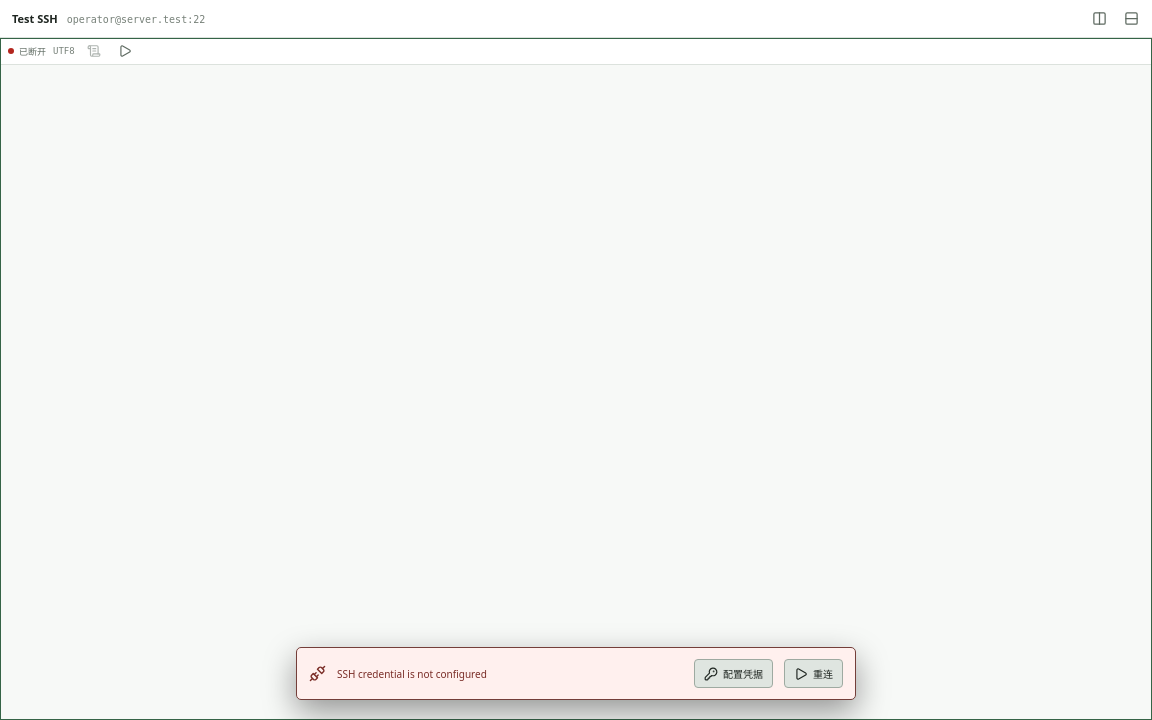
Test: M2 terminal workspace › uses the themed credential dialog and persists private-key passphrases
Click the button "配置凭据" at (734, 674), box x1=694 y1=659 x2=773 y2=688
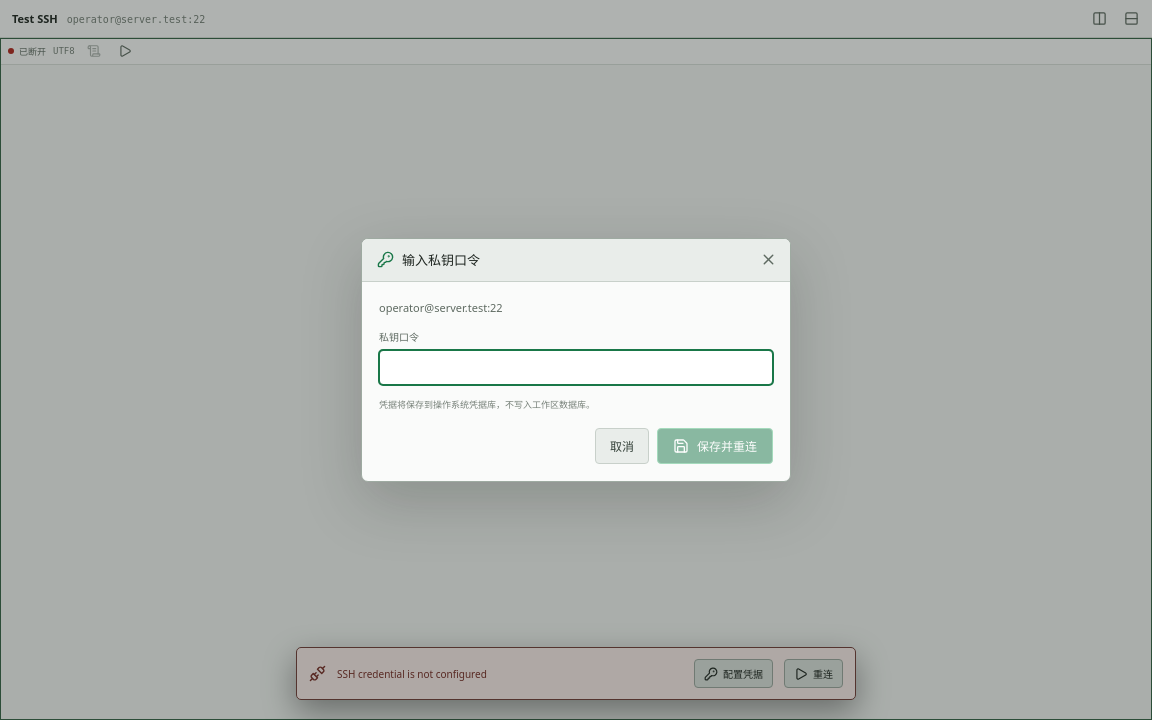
Result: the dialog "输入私钥口令" is shown at x1=361 y1=238 x2=791 y2=482
Type "passphrase-value" into the password field labelled "私钥口令" at (576, 368), box x1=379 y1=350 x2=773 y2=385
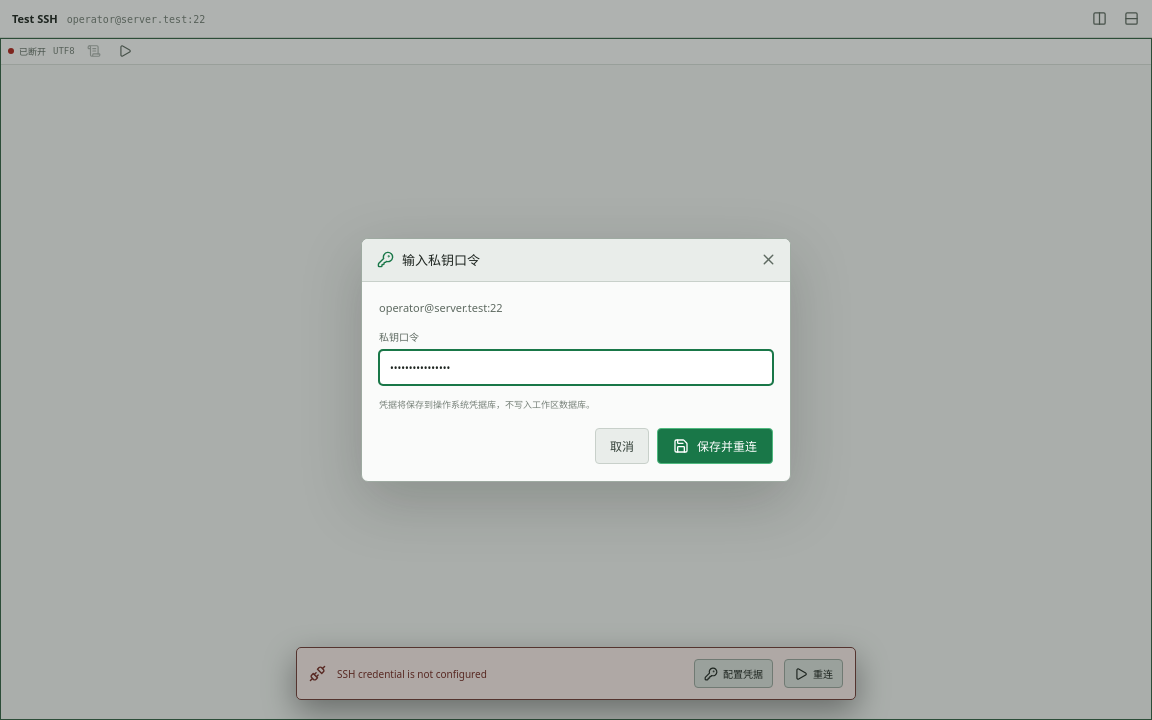
Click the button "保存并重连" at (715, 446), box x1=657 y1=428 x2=773 y2=464
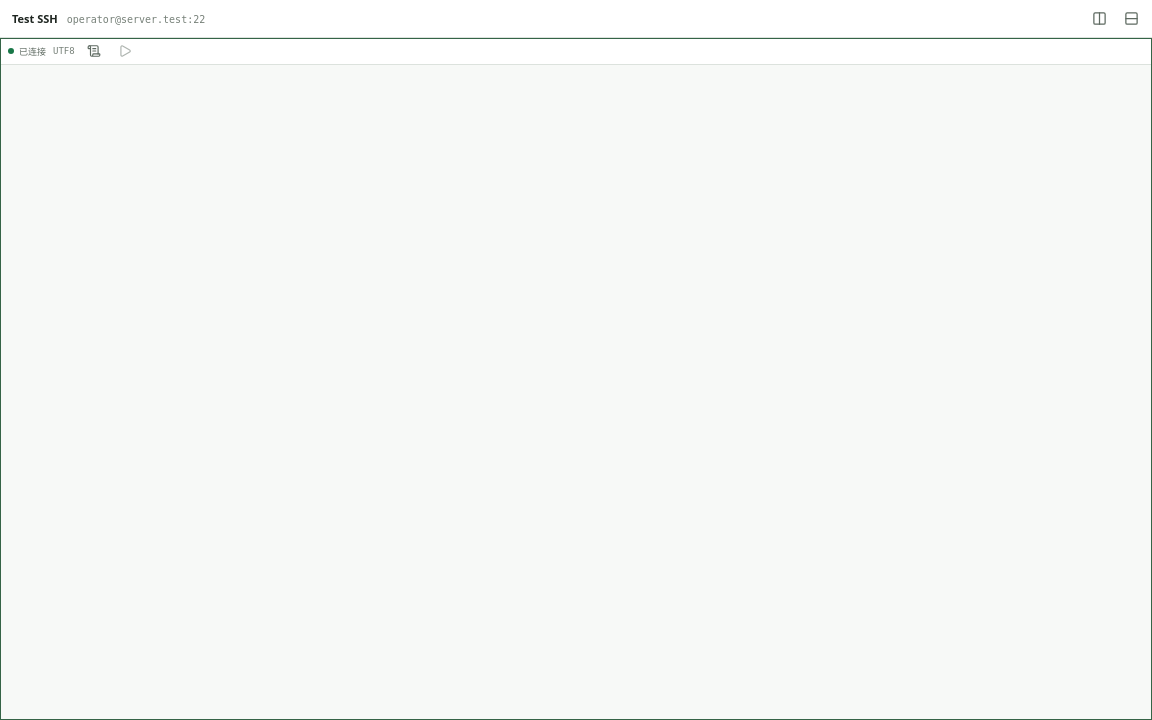
Result: the text "已连接" is shown at x1=8 y1=44 x2=46 y2=58
